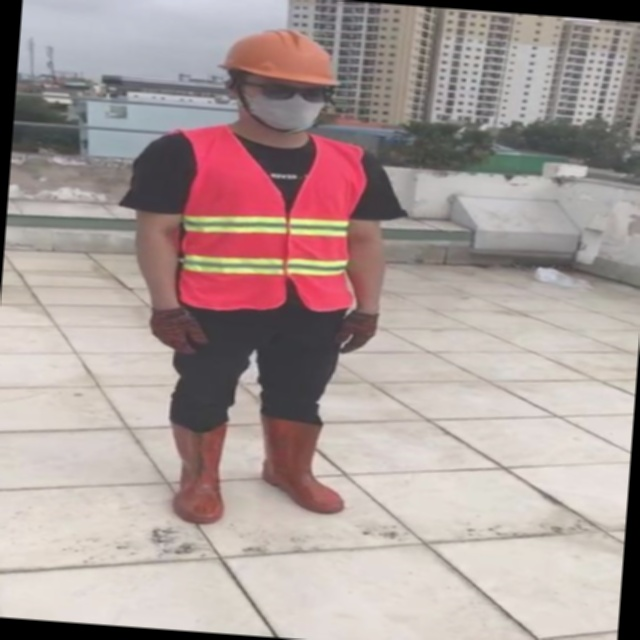boots: (284, 421, 366, 514), (402, 431, 460, 532)
gloves: (428, 289, 500, 378), (255, 296, 302, 353)
helmet: (311, 33, 443, 86)
vest: (286, 136, 466, 315)
